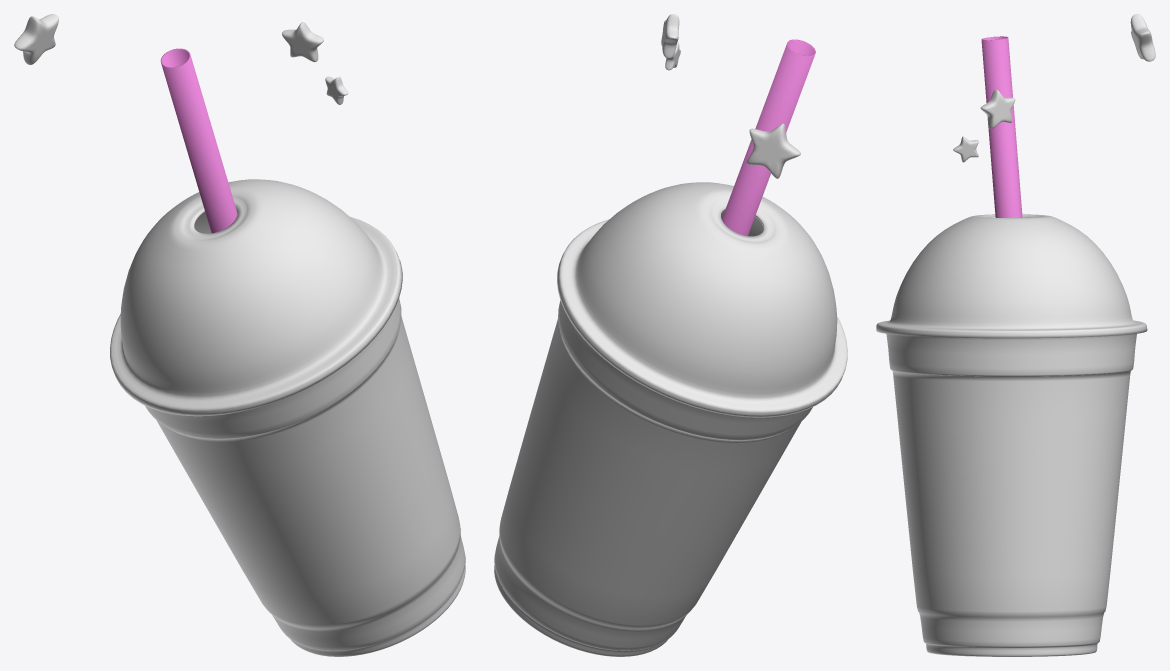
Rendered from ExportedBlenderFBXFile.fbx.
3 renders of one model, left to right at view 1: azimuth 30°, elevation 25°; view 2: azimuth 150°, elevation 25°; view 3: azimuth 270°, elevation 25°, orthographic. The views are drawn at different scales.
Parts seen in each view (by area): view 1: cup, cover, straw, Star.002, Star; view 2: cup, cover, straw, Star.002, Star; view 3: cup, cover, straw, Star, Star.002.
Part boxes in pixels (bbox=[...]): cup: bbox=[145, 298, 465, 656]; cover: bbox=[110, 179, 402, 416]; straw: bbox=[160, 48, 237, 233]; Star.002: bbox=[14, 14, 58, 64]; Star: bbox=[282, 22, 323, 62]; cup: bbox=[494, 300, 812, 656]; cover: bbox=[557, 182, 847, 417]; straw: bbox=[722, 39, 815, 235]; Star.002: bbox=[746, 123, 800, 178]; Star: bbox=[661, 14, 679, 58]; cup: bbox=[886, 333, 1136, 656]; cover: bbox=[876, 214, 1147, 338]; straw: bbox=[981, 36, 1022, 217]; Star: bbox=[980, 89, 1015, 128]; Star.002: bbox=[1130, 14, 1155, 61].
Bounding box in the file's own units: 3.17 × 5.24 × 2.39.
